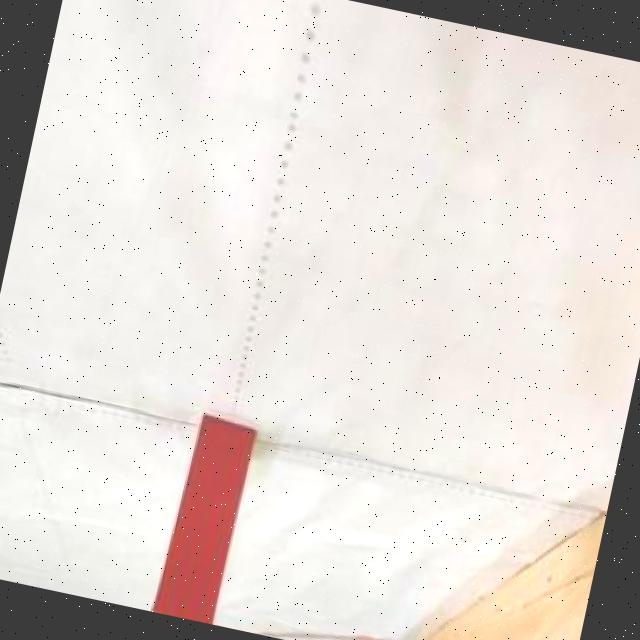redbox: (150, 410, 262, 626)
